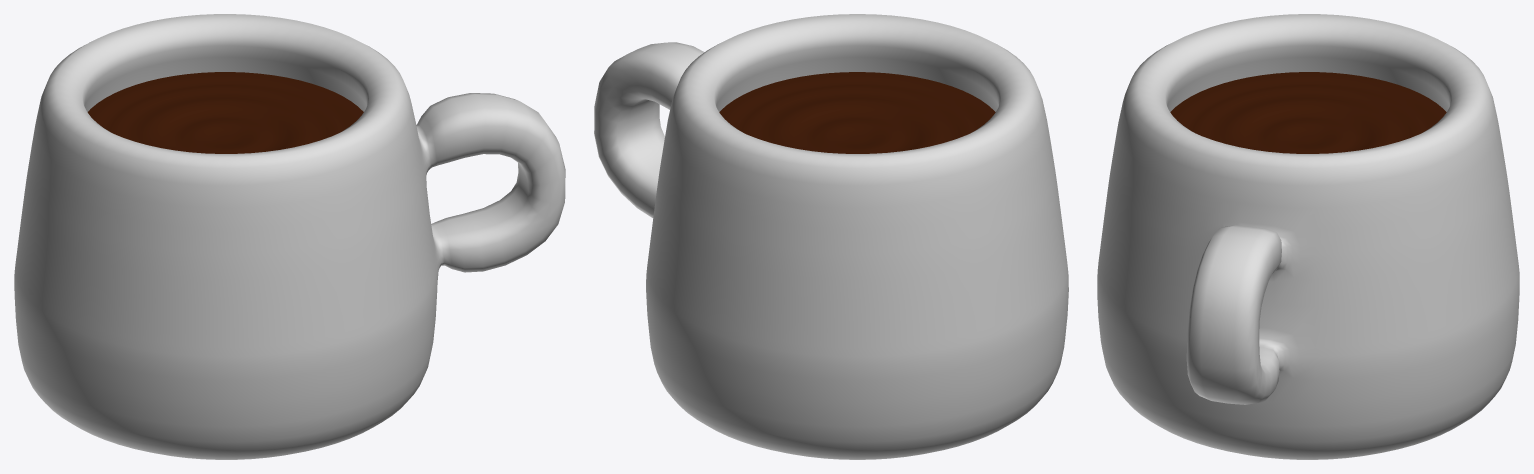
The model's file is TeaCup.fbx.
3 renders of one model, left to right at view 1: azimuth 30°, elevation 25°; view 2: azimuth 150°, elevation 25°; view 3: azimuth 270°, elevation 25°, orthographic.
Parts seen in each view (by area): view 1: Cup; view 2: Cup; view 3: Cup.
Boxes of the visible parts, x1,y1,x2,y2 form: Cup: (14,14,565,459); Cup: (594,14,1068,459); Cup: (1097,14,1519,459).
Bounding box in the file's own units: 265 × 166 × 203.
